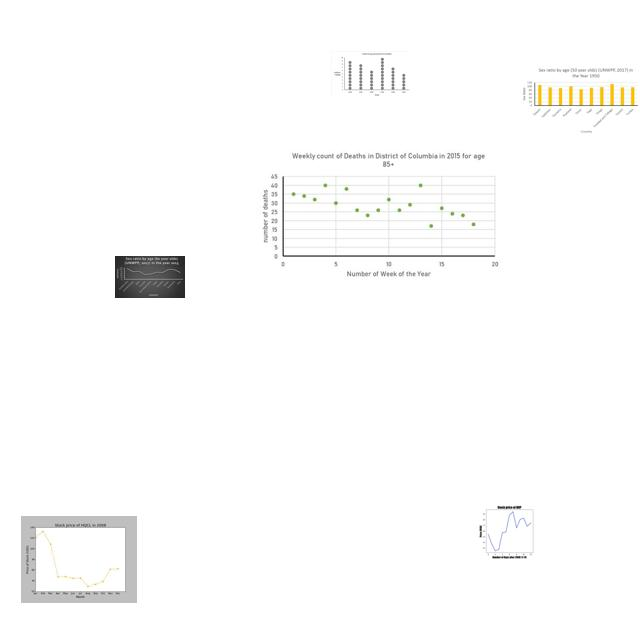Graph: (259, 150, 504, 284), (21, 516, 137, 603), (521, 66, 639, 135), (471, 503, 546, 559), (331, 51, 411, 98), (115, 256, 185, 298)
